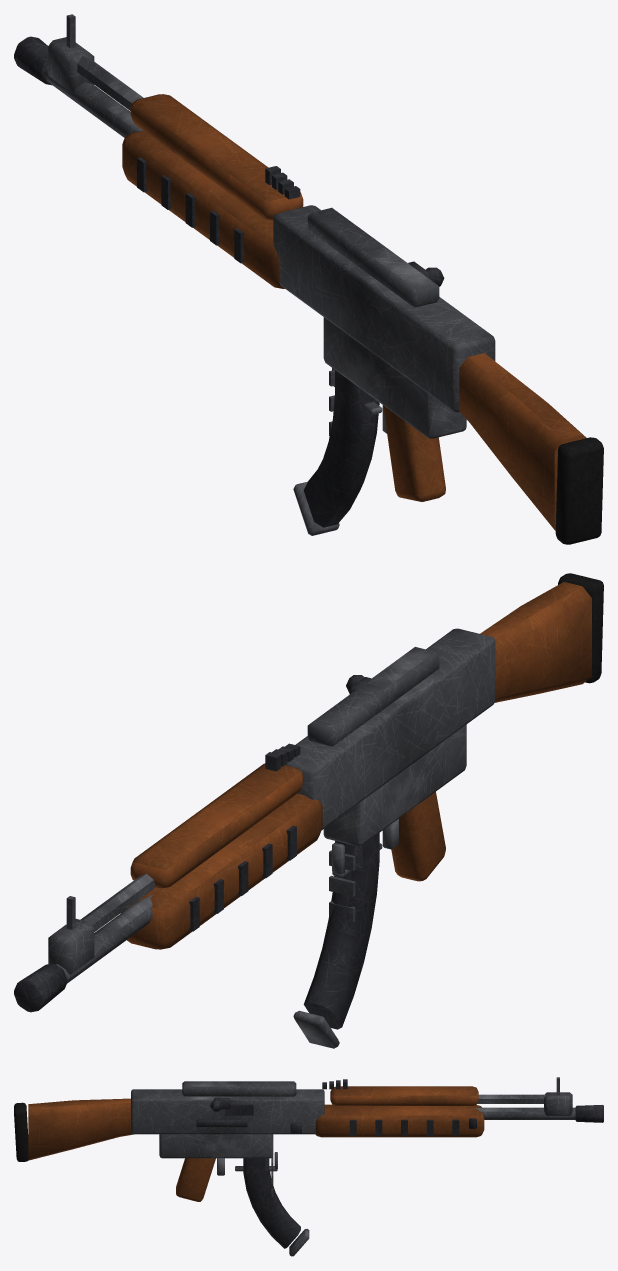
Rendered from rifle.glb.
3 renders of one model, top to bottom at view 1: azimuth 30°, elevation 25°; view 2: azimuth 150°, elevation 25°; view 3: azimuth 270°, elevation 25°, orthographic. The views are drawn at different scales.
Visible parts, largest first — view 1: body, mag; view 2: body, mag; view 3: body, mag.
Boxes of the visible parts, <box> form: body: <box>14,14,603,544</box>; mag: <box>293,370,379,535</box>; body: <box>14,573,603,1012</box>; mag: <box>293,833,379,1048</box>; body: <box>14,1077,603,1201</box>; mag: <box>243,1157,309,1256</box>.
Size of the model in its own units: 0.0795 by 0.3392 by 1.04.
4 materials, 4 textured.
